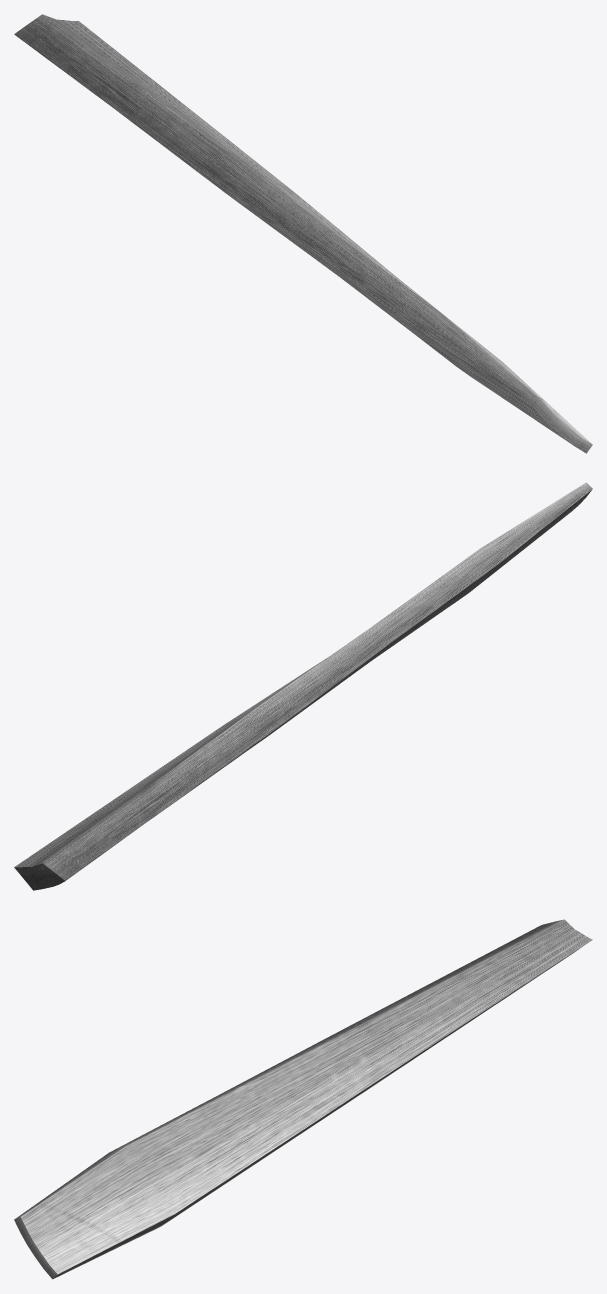
Rendered from rotor_blade.fbx.
3 views of the same model, one above another, from view 1: azimuth 30°, elevation 25°; view 2: azimuth 150°, elevation 25°; view 3: azimuth 330°, elevation 25° (orthographic). The views are drawn at different scales.
Visible parts, largest first — view 1: Cube; view 2: Cube; view 3: Cube.
Boxes of the visible parts, bbox=[...] form: Cube: bbox=[14, 14, 592, 453]; Cube: bbox=[14, 482, 592, 890]; Cube: bbox=[14, 919, 592, 1279].
Bounding box in the file's own units: 0.0917 × 0.0663 × 0.7827.
